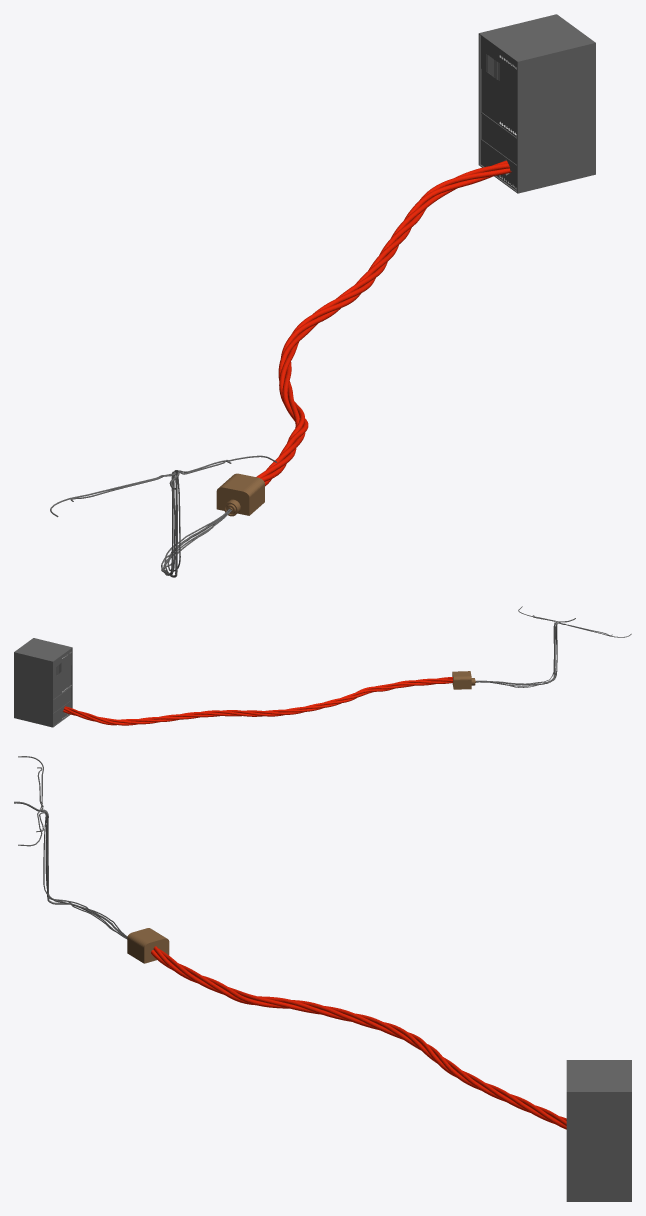
File: powerUnit.gltf
The picture shows the model from 3 angles, top to bottom: view 1: azimuth 30°, elevation 25°; view 2: azimuth 150°, elevation 25°; view 3: azimuth 270°, elevation 25°; orthographic projection. The views are drawn at different scales.
Visible parts, largest first — view 1: powerUnit, bigCable, cables, converter; view 2: powerUnit, bigCable, cables, converter; view 3: powerUnit, bigCable, cables, converter.
Part boxes in pixels (<box>): powerUnit: <box>478,14,595,193</box>; bigCable: <box>256,160,511,486</box>; cables: <box>50,455,274,577</box>; converter: <box>216,473,264,516</box>; powerUnit: <box>14,638,72,727</box>; bigCable: <box>63,677,453,725</box>; cables: <box>476,607,630,687</box>; converter: <box>452,671,475,689</box>; powerUnit: <box>566,1060,631,1201</box>; bigCable: <box>151,946,566,1129</box>; cables: <box>16,756,127,939</box>; converter: <box>127,928,169,963</box>.
Size of the model in its own units: 7 by 1.02 by 5.17.
